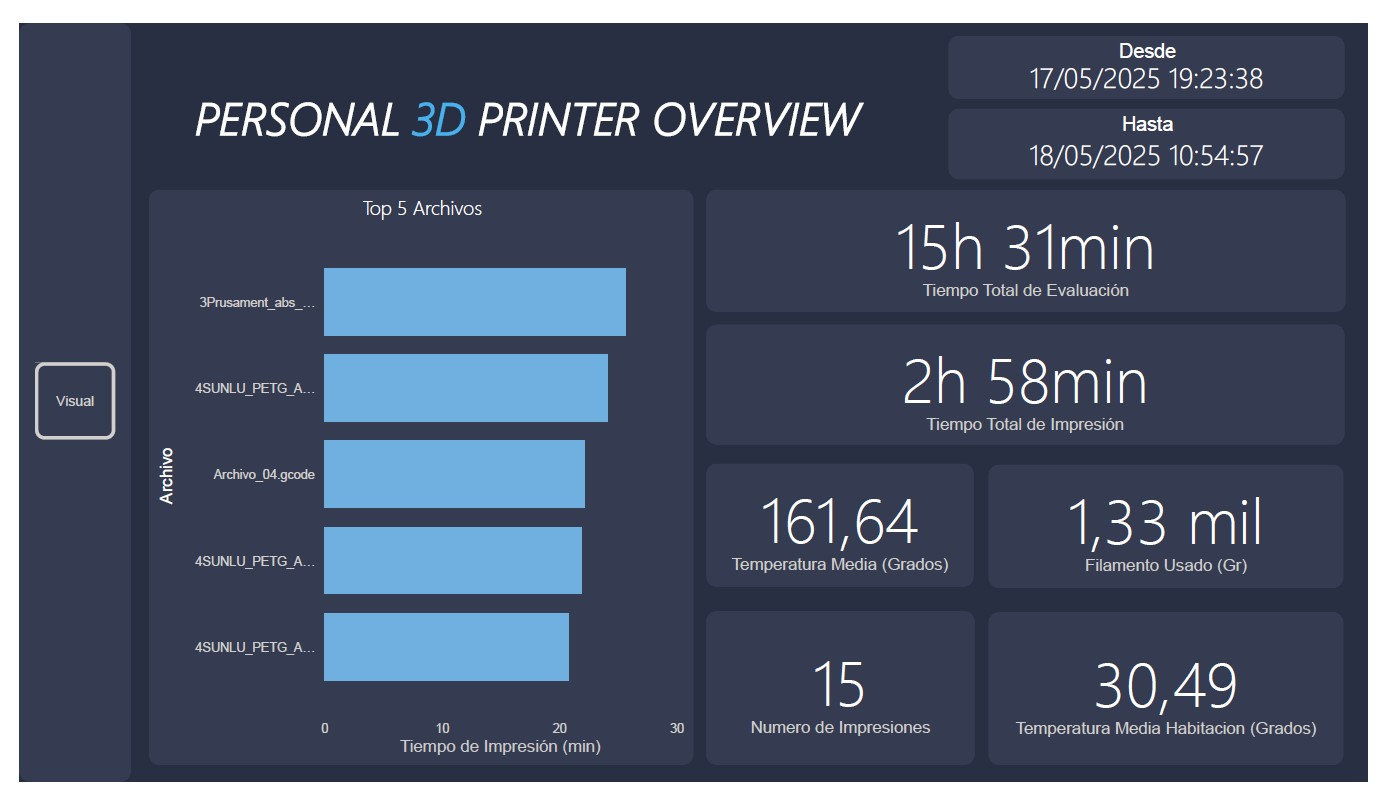

What the dashboard file says about the page in this screenshot:
{"tool":"powerbi","page":{"name":"Global","canvas":[1280,720],"ordinal":0},"visuals":[{"type":"card","fields":{"Values":["octoprint octo_data.Temperatura Media Habitacion (Grados)"]},"box":[920,558.6,337.1,145.7],"z":0},{"type":"card","fields":{"Values":["octoprint octo_data.FilamentoTotal_Gr_Correcto"]},"box":[920,418.6,337.1,117.1],"z":1000},{"type":"card","fields":{"Values":["octoprint octo_data.TemperaturaMediaNozzle"]},"box":[651.5,418.4,254,116.6],"z":2000},{"type":"card","fields":{"Values":["octoprint octo_data.Tiempo Total de Uso"]},"box":[651.5,158.3,607.4,115.3],"z":3000},{"type":"card","fields":{"Values":["octoprint octo_data.TotalImpresionesUnicas"]},"box":[651.5,558.3,255.2,146],"z":4000},{"type":"textbox","box":[94.5,55.2,775.5,93.3],"z":5000},{"type":"clusteredBarChart","title":"Top 5 Archivos","fields":{"Category":["octoprint octo_data.file.value"],"Y":["octoprint octo_data.ConteoPorArchivo"]},"box":[122.7,158.3,517.8,546],"z":6000},{"type":"card","title":"Hasta","fields":{"Values":["octoprint octo_data.Ultimo Timestamp"]},"box":[882.2,81,375.5,67.5],"z":7000},{"type":"card","title":"Desde","fields":{"Values":["octoprint octo_data.Primer Timestamp"]},"box":[882.2,12.3,375.5,60.1],"z":8000},{"type":"textbox","box":[0,0,105.5,720.2],"z":9000},{"type":"card","fields":{"Values":["octoprint octo_data.TiempoPrintingTotal"]},"box":[651.5,285.9,606.1,114.1],"z":10000},{"type":"actionButton","box":[11,318.4,83.7,81],"z":12000}]}

Visuals, with their boxes in screenshot pixels (x1, y1, x2, y2), scaled from the page's 1280x720 canvas onto the 1385x798 screenshot:
card - octoprint octo_data.Temperatura Media Habitacion (Grados): (995, 619, 1360, 781)
card - octoprint octo_data.FilamentoTotal_Gr_Correcto: (995, 464, 1360, 594)
card - octoprint octo_data.TemperaturaMediaNozzle: (705, 464, 980, 593)
card - octoprint octo_data.Tiempo Total de Uso: (705, 175, 1362, 303)
card - octoprint octo_data.TotalImpresionesUnicas: (705, 619, 981, 781)
textbox: (102, 61, 941, 165)
"Top 5 Archivos" clusteredBarChart: (133, 175, 693, 781)
"Hasta" card: (955, 90, 1361, 165)
"Desde" card: (955, 14, 1361, 80)
textbox: (0, 0, 114, 797)
card - octoprint octo_data.TiempoPrintingTotal: (705, 317, 1361, 443)
actionButton: (12, 353, 102, 443)
